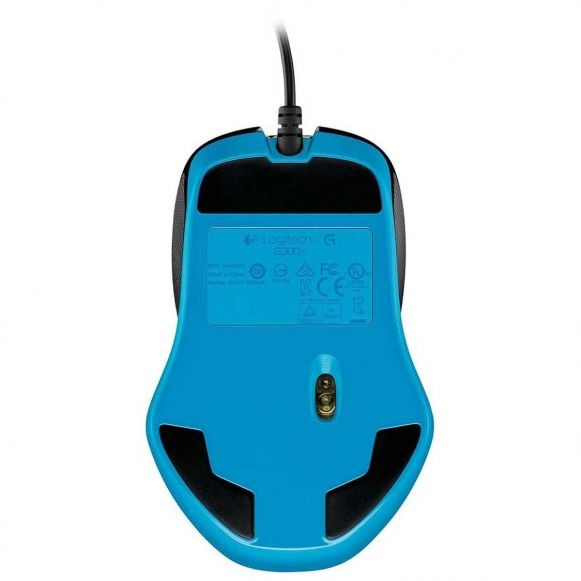mouse: (144, 127, 439, 571)
